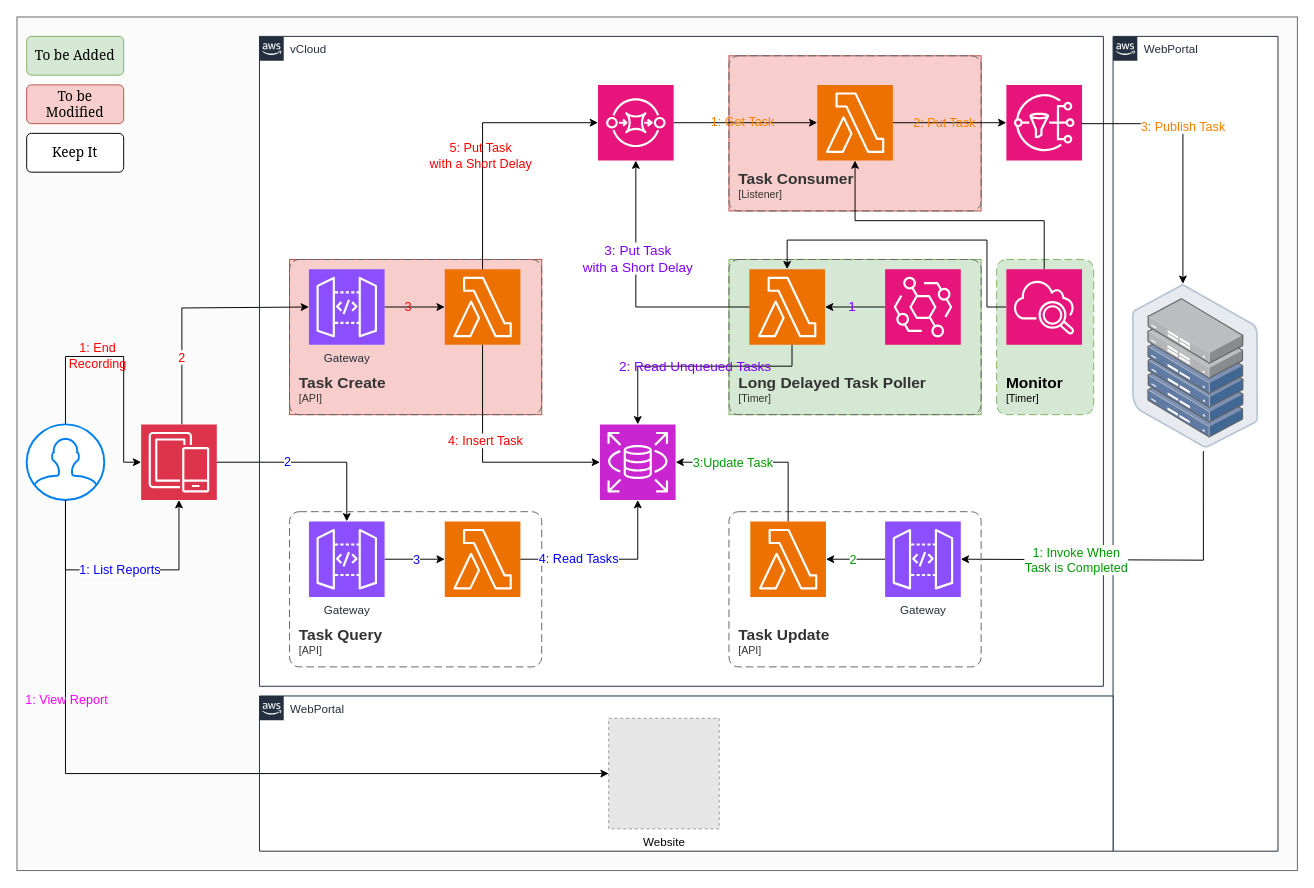
This 1314x888 diagram has some shape labels left out. Grey dashed boxes stand in for pictures. The centre of each missing label's shape, as x and y in pixels:
"Backend" belongs at point (1195, 366).
"CloudWatch" belongs at point (1043, 306).
"EventBridge" belongs at point (922, 306).
"RDS: Task Table" belongs at point (637, 461).
"SNS" belongs at point (1043, 122).
"SQS: Task Queue" belongs at point (635, 122).
"VivaLNK Mobile App" belongs at point (178, 461).
